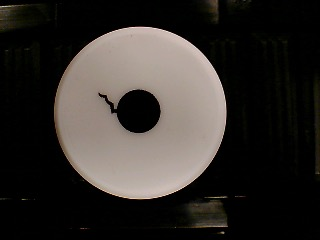CRACK: (52, 25, 227, 200)
